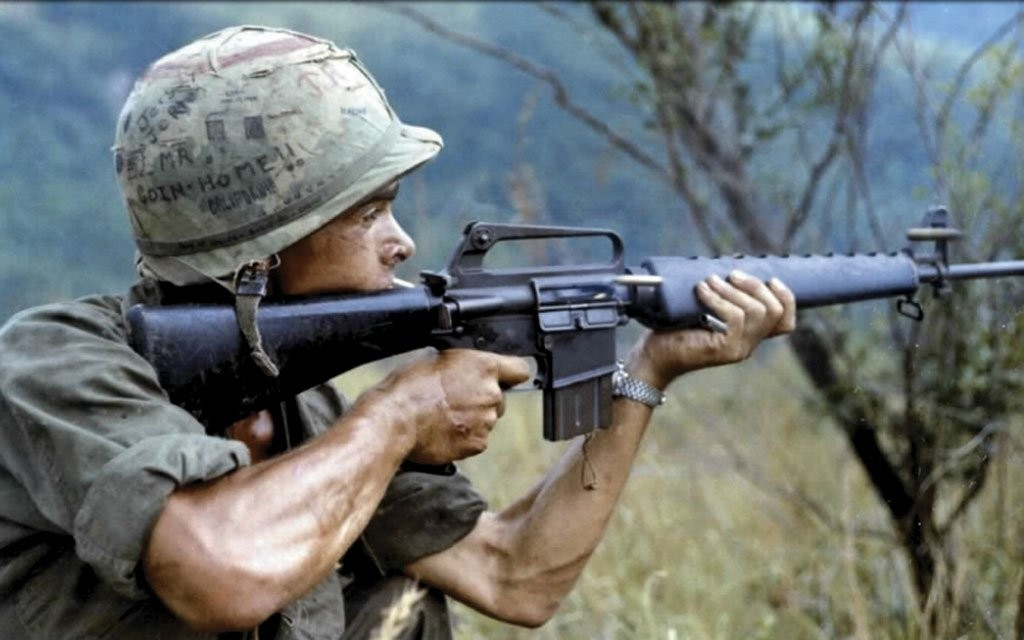Rifle: (132, 218, 1024, 448)
